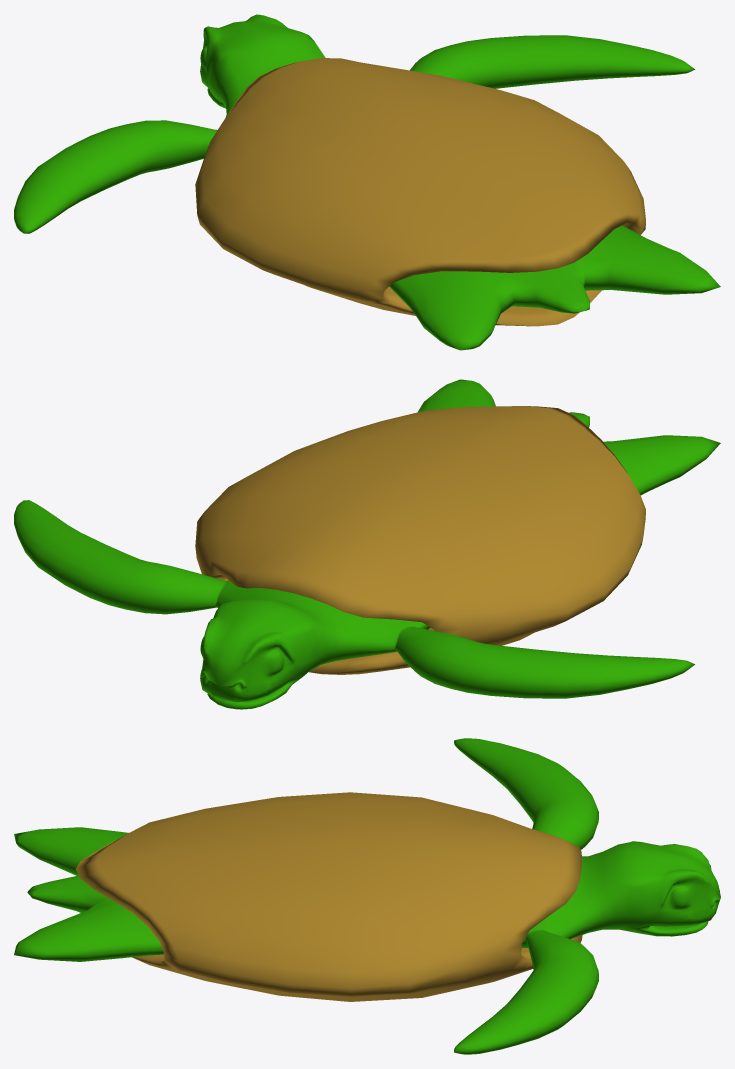
File: turtle_m.fbx
3 renders of one model, top to bottom at view 1: azimuth 30°, elevation 25°; view 2: azimuth 150°, elevation 25°; view 3: azimuth 270°, elevation 25°, orthographic. The views are drawn at different scales.
Parts seen in each view (by area): view 1: t_shell, t_arm5; view 2: t_shell, t_arm5; view 3: t_shell, t_arm5.
Part boxes in pixels (x1=…): t_shell: x1=195, y1=58, x2=645, y2=326; t_arm5: x1=14, y1=14, x2=720, y2=350; t_shell: x1=195, y1=406, x2=645, y2=674; t_arm5: x1=14, y1=379, x2=720, y2=709; t_shell: x1=75, y1=792, x2=582, y2=1001; t_arm5: x1=14, y1=738, x2=720, y2=1054.
Size of the model in its own units: 0.7395 by 0.1373 by 0.708.
